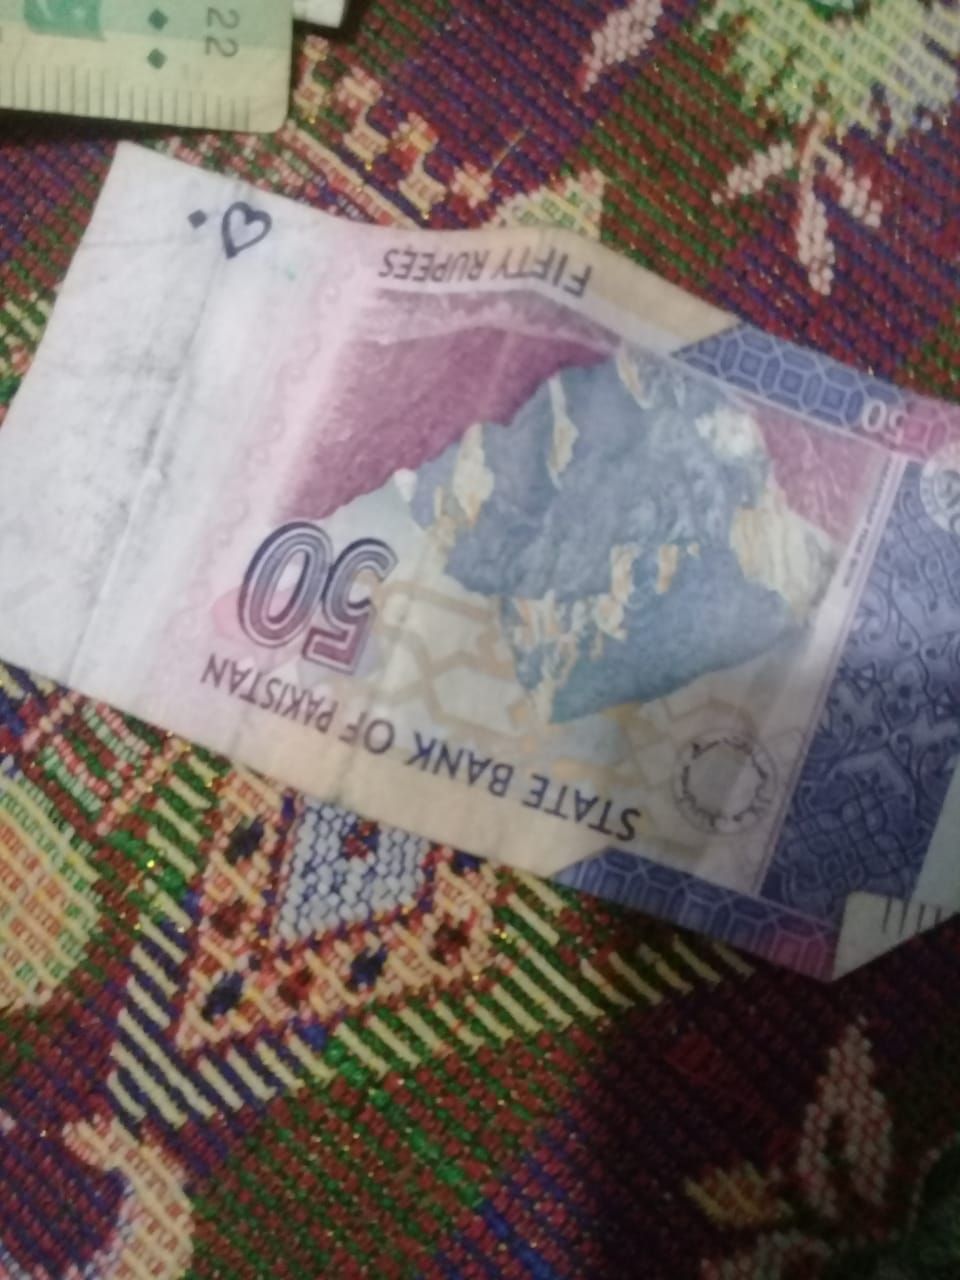50 rupee: (17, 133, 959, 967)
